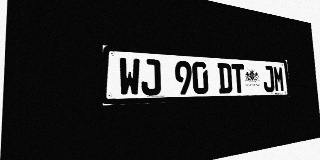0: (192, 61, 208, 94)
9: (174, 60, 192, 95)
D: (217, 63, 232, 93)
J: (141, 58, 161, 96), (262, 65, 275, 92)
M: (273, 66, 285, 92)
T: (231, 64, 245, 93)
W: (119, 57, 140, 96)
